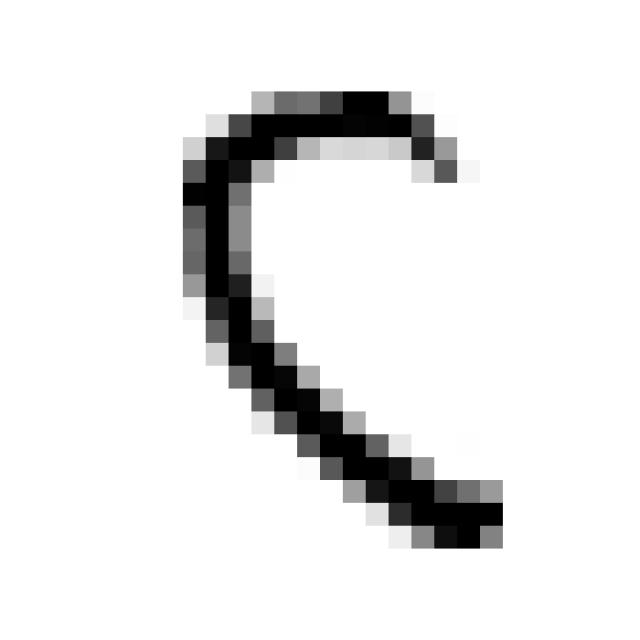2 -two-: (165, 66, 527, 558)
